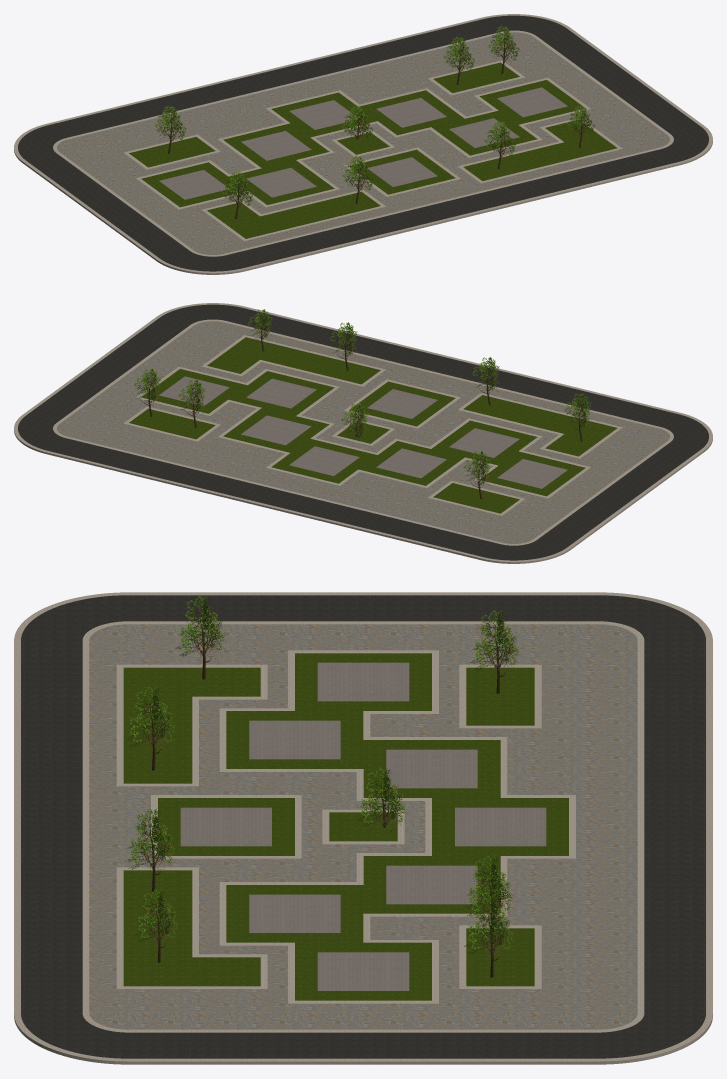
3 views of the same model, one above another, from view 1: azimuth 30°, elevation 25°; view 2: azimuth 150°, elevation 25°; view 3: azimuth 270°, elevation 25° (orthographic). The views are drawn at different scales.
Visible parts, largest first — view 1: 8__Model_-_8_dwg; view 2: 8__Model_-_8_dwg; view 3: 8__Model_-_8_dwg.
Part boxes in pixels (left/top/right/bottom): 8__Model_-_8_dwg: left=14, top=14, right=712, bottom=274; 8__Model_-_8_dwg: left=14, top=303, right=712, bottom=563; 8__Model_-_8_dwg: left=14, top=592, right=712, bottom=1064.
Bounding box in the file's own units: 48.6 × 5.21 × 30.6.
9 materials, 5 textured.
